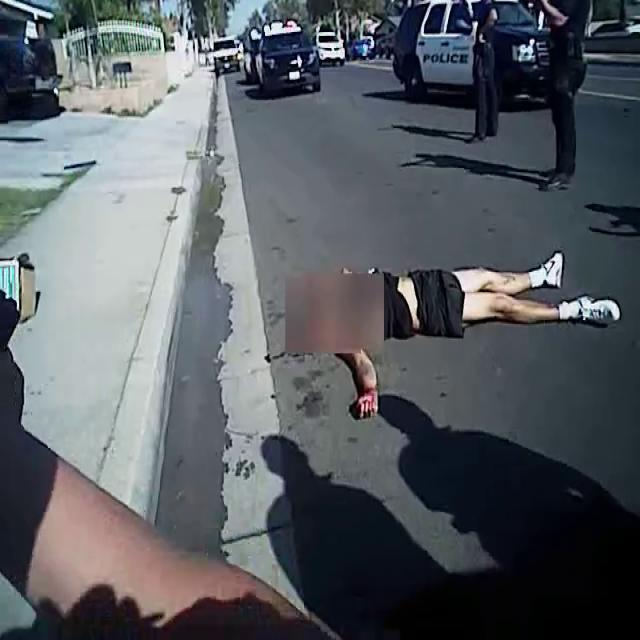gun: (519, 0, 546, 23)
